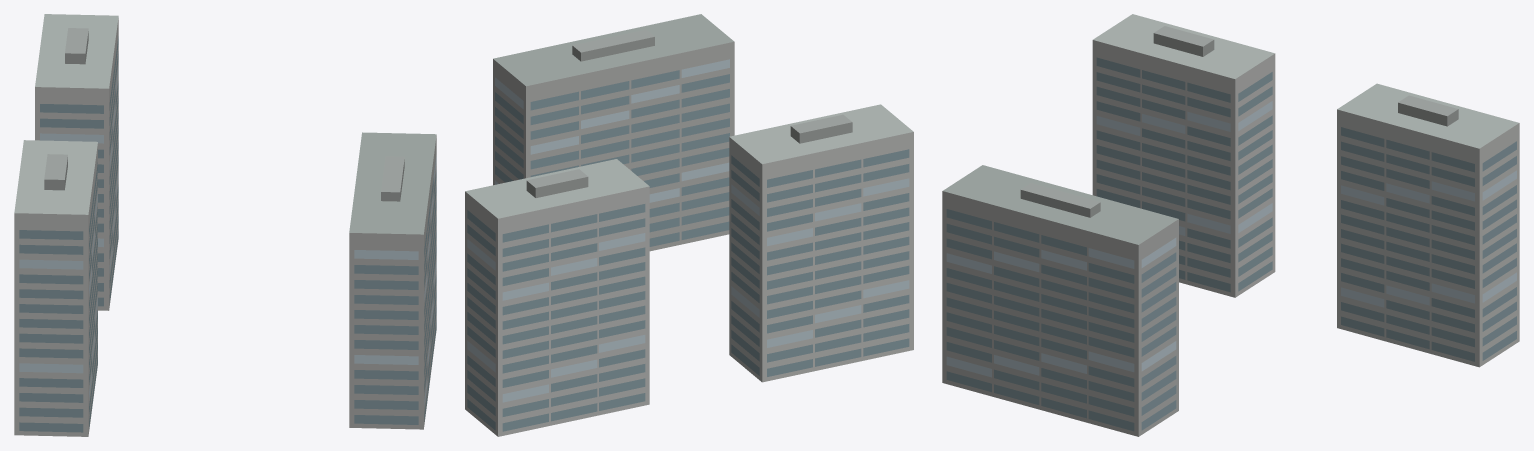
The model's file is apt-a10024827.glb.
3 views of the same model, side by side, from view 1: azimuth 30°, elevation 25°; view 2: azimuth 150°, elevation 25°; view 3: azimuth 270°, elevation 25° (orthographic).
Parts seen in each view (by area): view 1: apt-a10024827; view 2: apt-a10024827; view 3: apt-a10024827.
Boxes of the visible parts, bbox=[...] form: apt-a10024827: bbox=[14, 14, 436, 436]; apt-a10024827: bbox=[465, 14, 913, 436]; apt-a10024827: bbox=[942, 14, 1519, 436].
Size of the model in its own units: 78.49 by 41 by 93.65.
